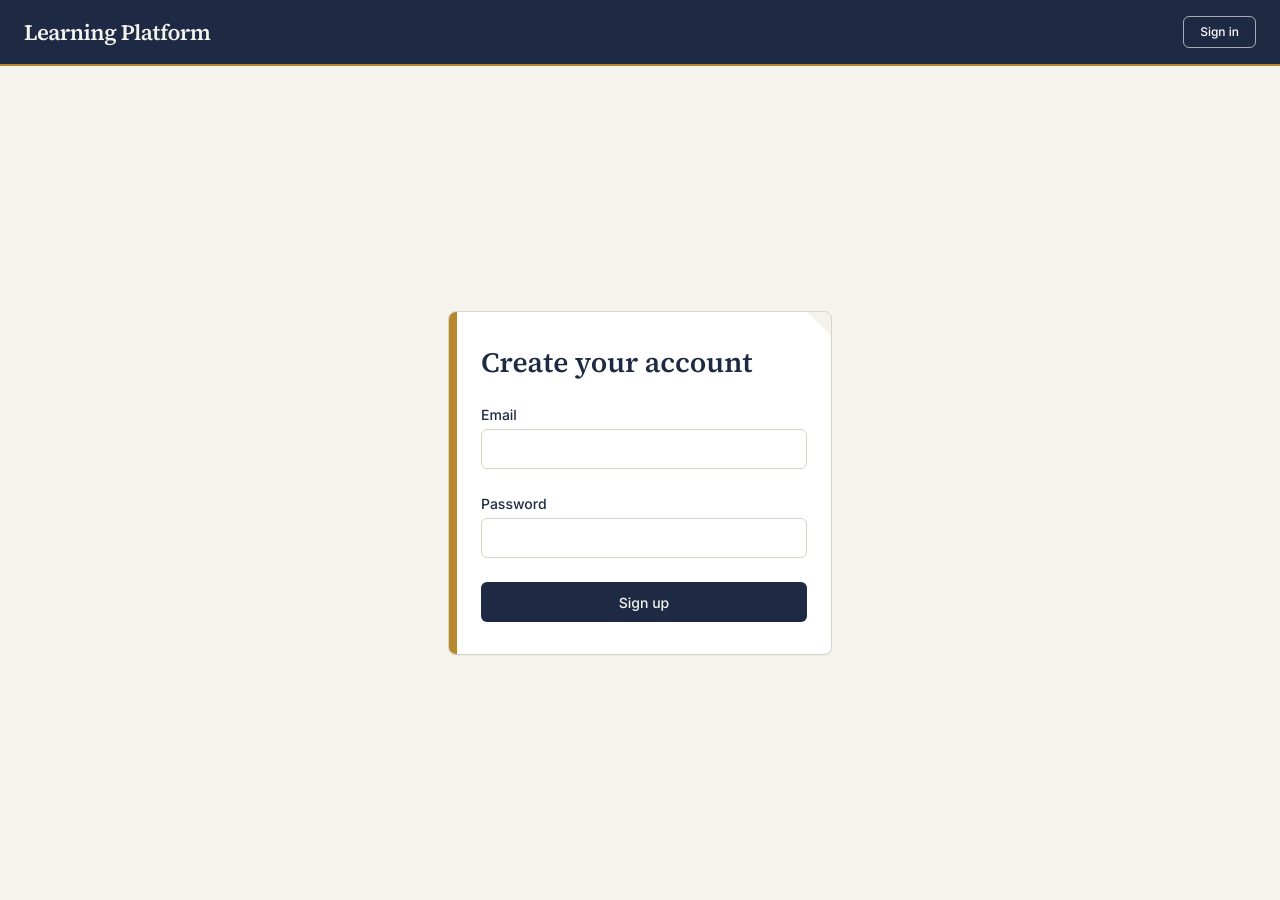
SignUpPage (SIGN-UP-001) › submits email/password to POST /api/signup and shows a success message
This screenshot has width=1280, height=900.
# filling in the form and submitting it
Type "new@example.com" into the field labelled "Email" at (644, 449), box [481,429,807,469]
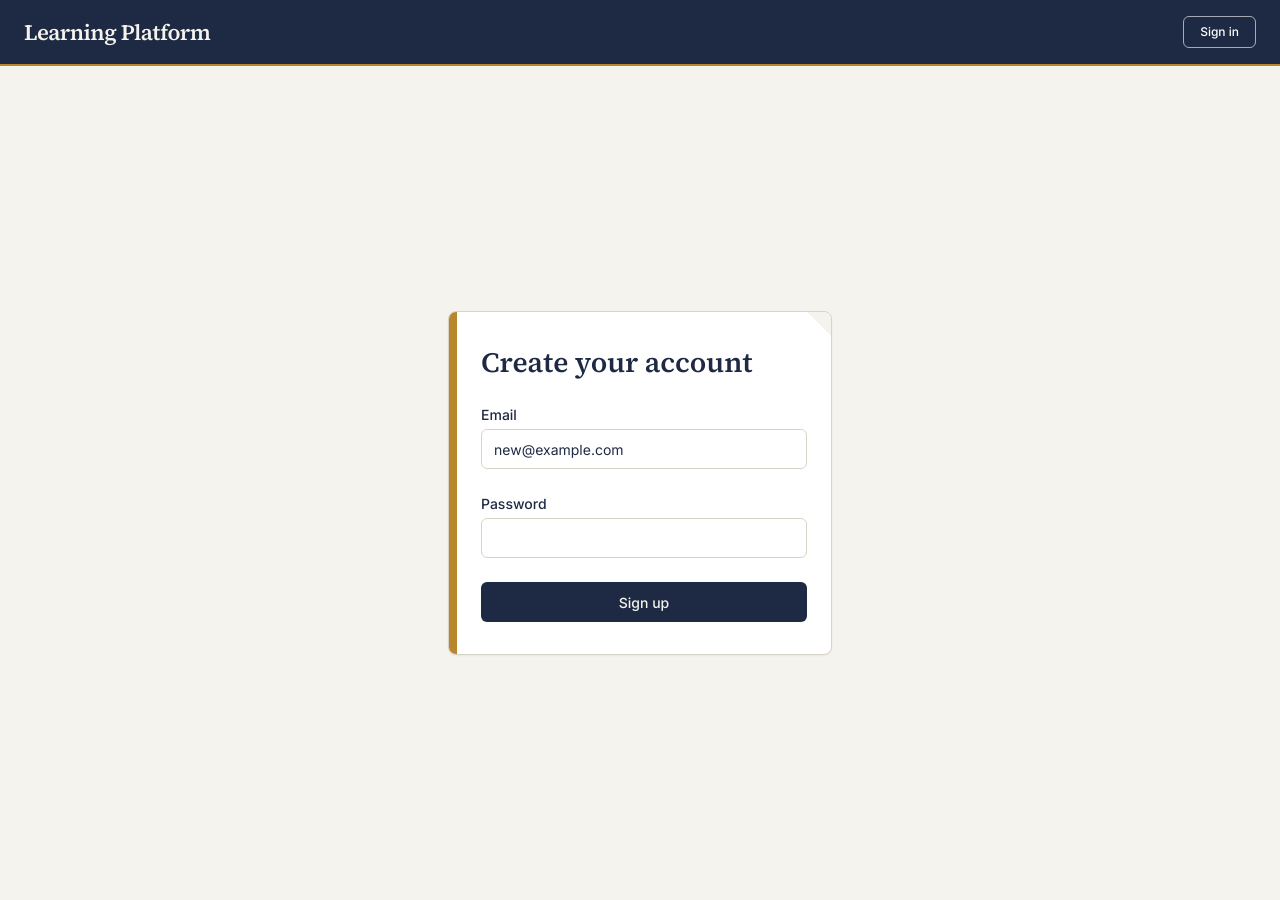
Type "longenough" into the password field labelled "Password" at (644, 538), box [481,518,807,558]
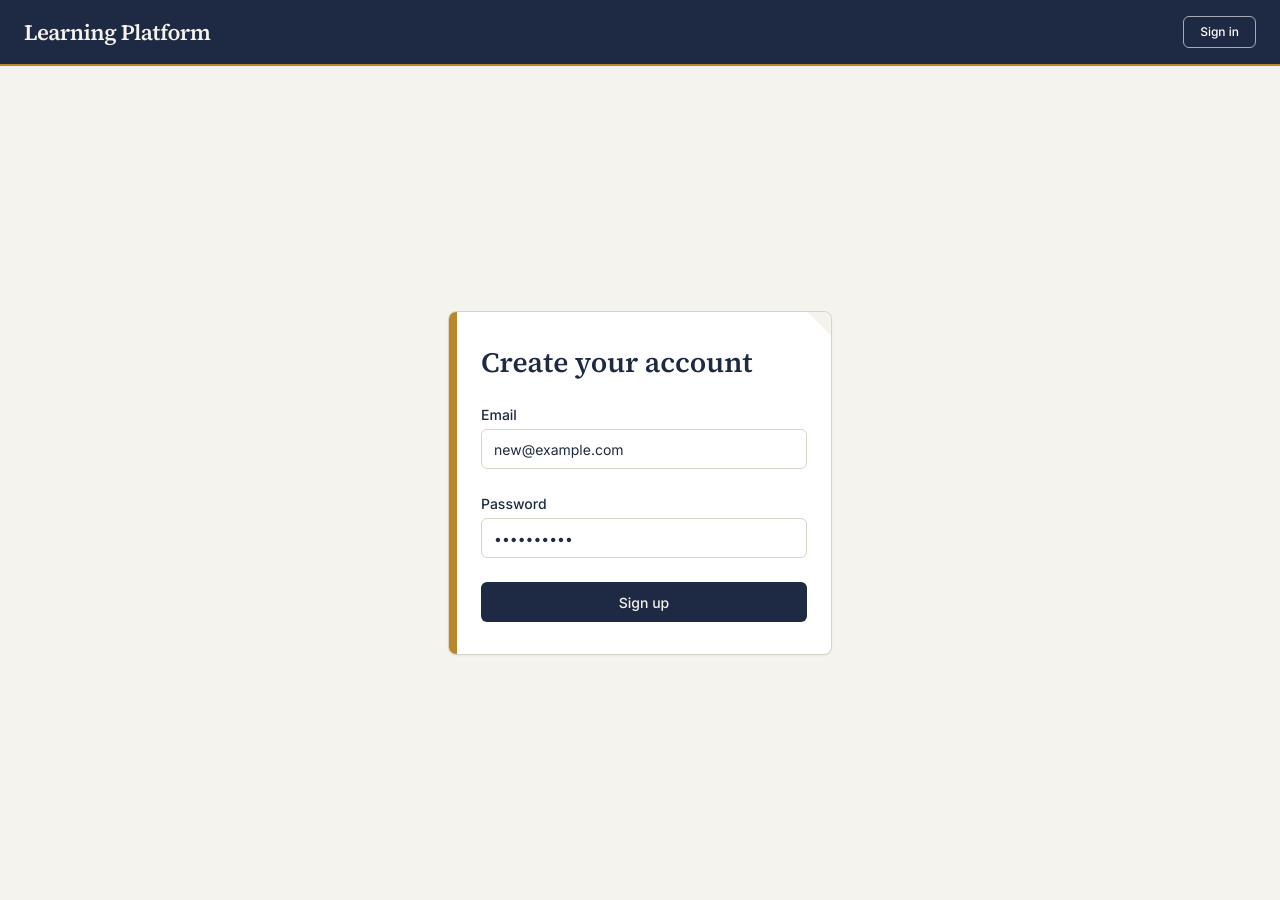
Click the button "Sign up" at (644, 602), box [481,582,807,622]
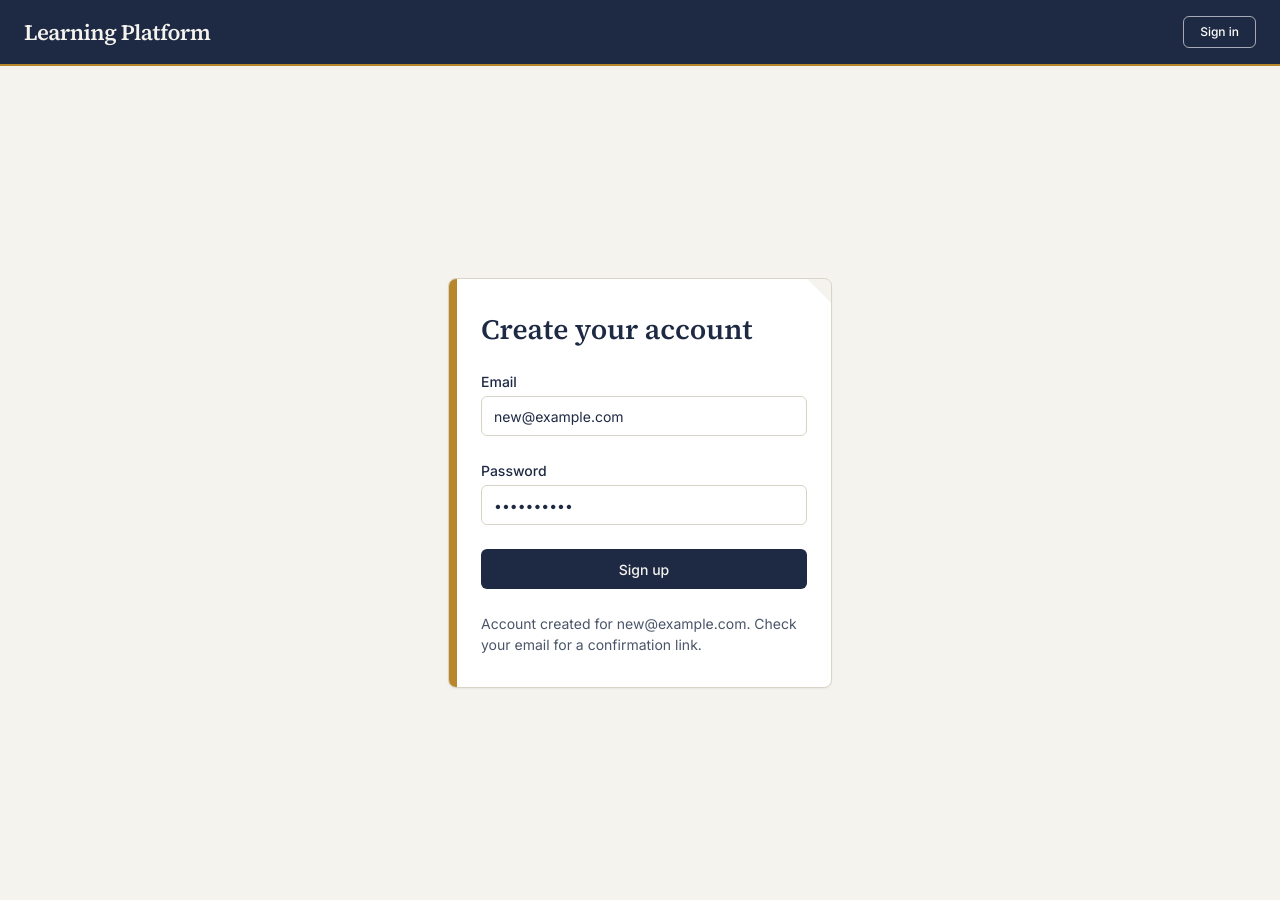
Now the message shows "Check your email", box [481,615,797,653]
